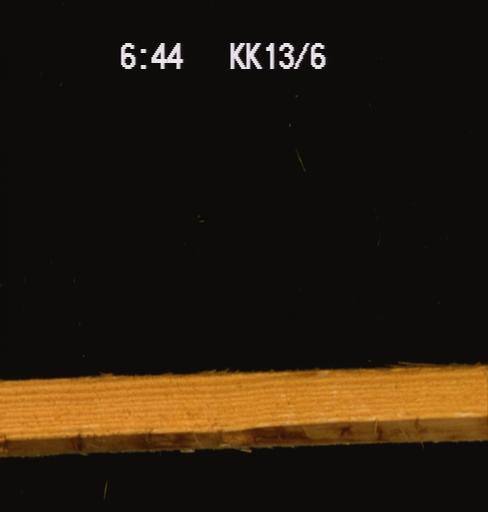wave: (1, 354, 486, 391), (3, 419, 482, 455)
